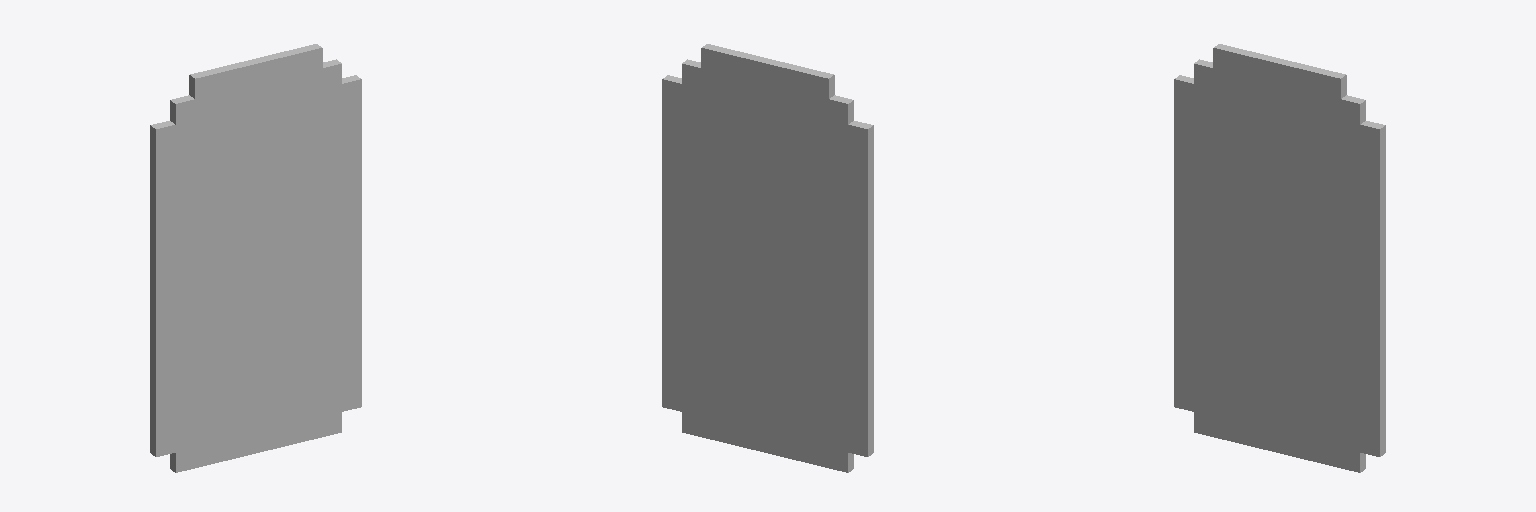
File: Toilet.obj
3 renders of one model, left to right at view 1: azimuth 30°, elevation 25°; view 2: azimuth 150°, elevation 25°; view 3: azimuth 330°, elevation 25°, orthographic.
Parts seen in each view (by area): view 1: object 1; view 2: object 1; view 3: object 1.
Boxes of the visible parts, <box> form: object 1: <box>150,44,361,472</box>; object 1: <box>662,44,873,472</box>; object 1: <box>1174,44,1385,472</box>.
Bounding box in the file's own units: 2.1 × 3.8 × 0.1.